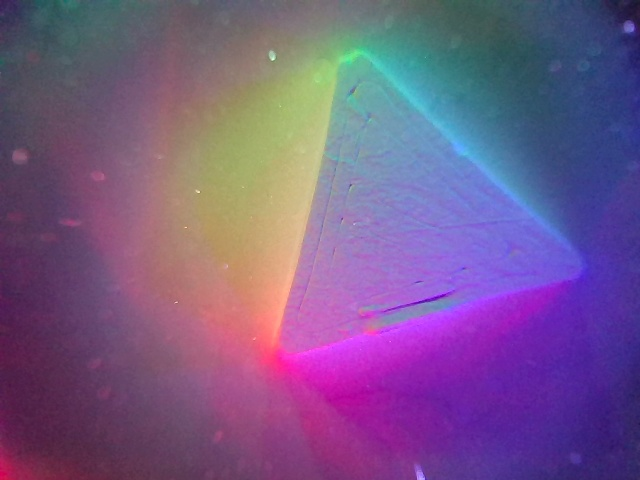contact: (282, 61, 578, 355)
